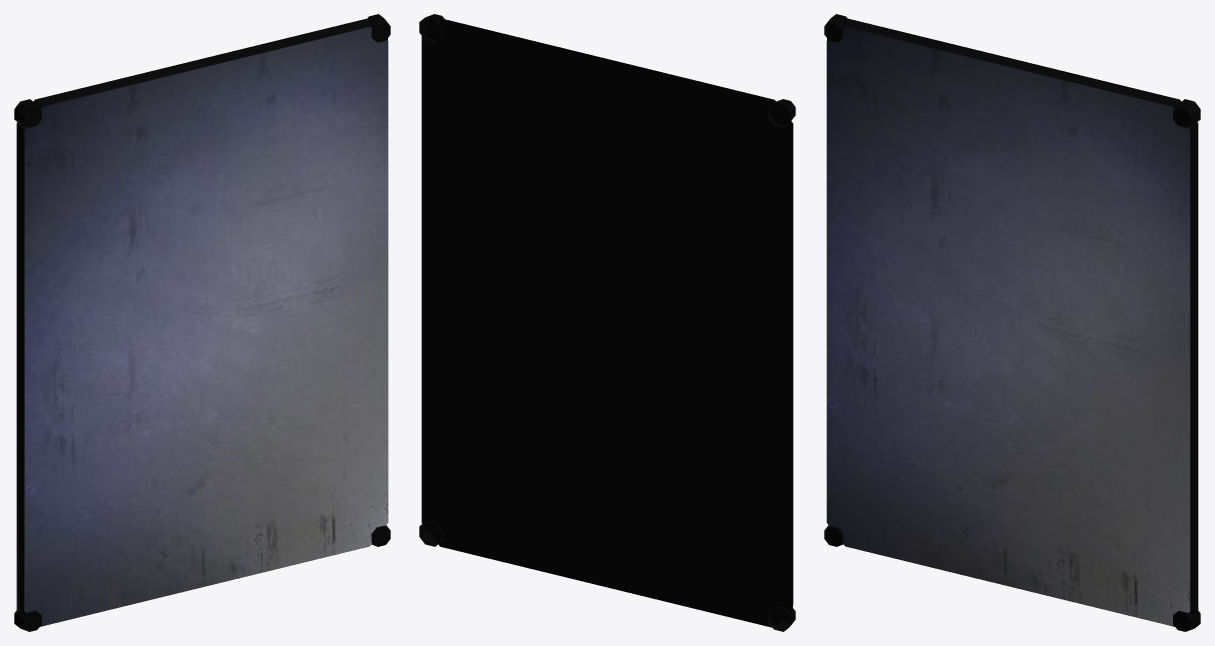
The model's file is BathroomMirror.fbx.
3 renders of one model, left to right at view 1: azimuth 30°, elevation 25°; view 2: azimuth 150°, elevation 25°; view 3: azimuth 330°, elevation 25°, orthographic.
Parts seen in each view (by area): view 1: pCube363; view 2: pCube363; view 3: pCube363.
Part boxes in pixels (left/top/right/bottom): pCube363: left=14, top=14, right=390, bottom=631; pCube363: left=419, top=14, right=795, bottom=631; pCube363: left=824, top=14, right=1200, bottom=631.
Size of the model in its own units: 137 by 187 by 5.25.
Materials: 1 (1 with a texture image).
